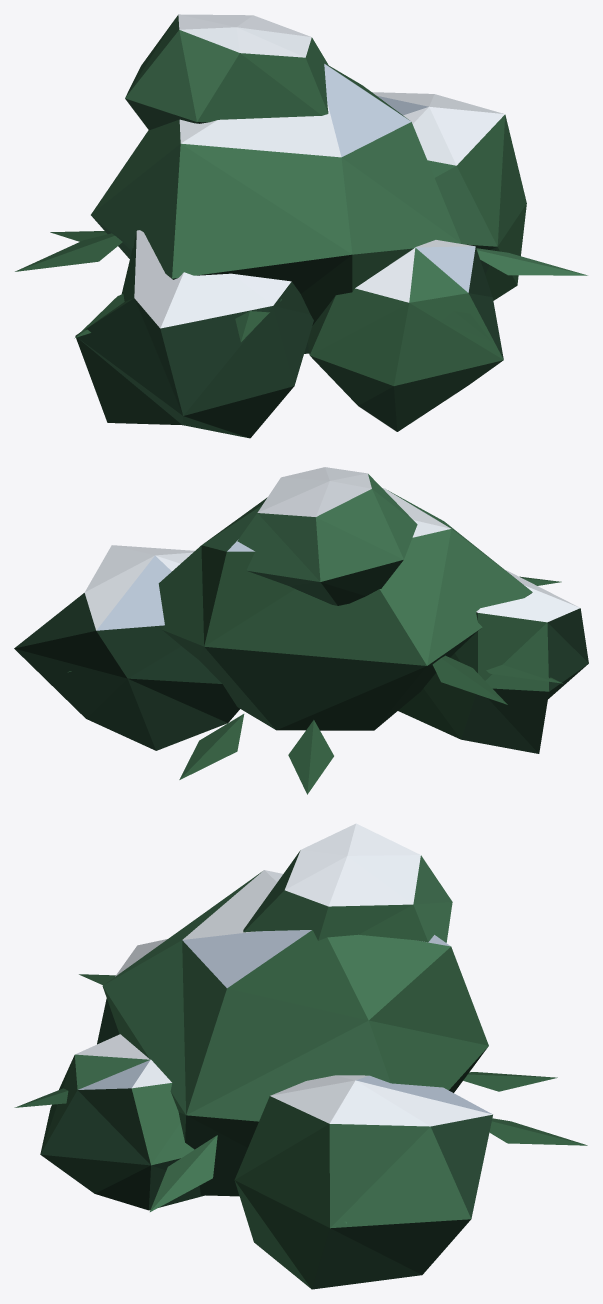
Rendered from bush_snow.fbx.
3 views of the same model, one above another, from view 1: azimuth 30°, elevation 25°; view 2: azimuth 150°, elevation 25°; view 3: azimuth 270°, elevation 25° (orthographic). The views are drawn at different scales.
Parts seen in each view (by area): view 1: bush_snow; view 2: bush_snow; view 3: bush_snow.
Boxes of the visible parts, box(x1,y1,x2,y2) form: bush_snow: box(15, 14, 587, 438); bush_snow: box(14, 467, 588, 794); bush_snow: box(14, 823, 587, 1289).
Bounding box in the file's own units: 1.68 × 1.02 × 1.64.
